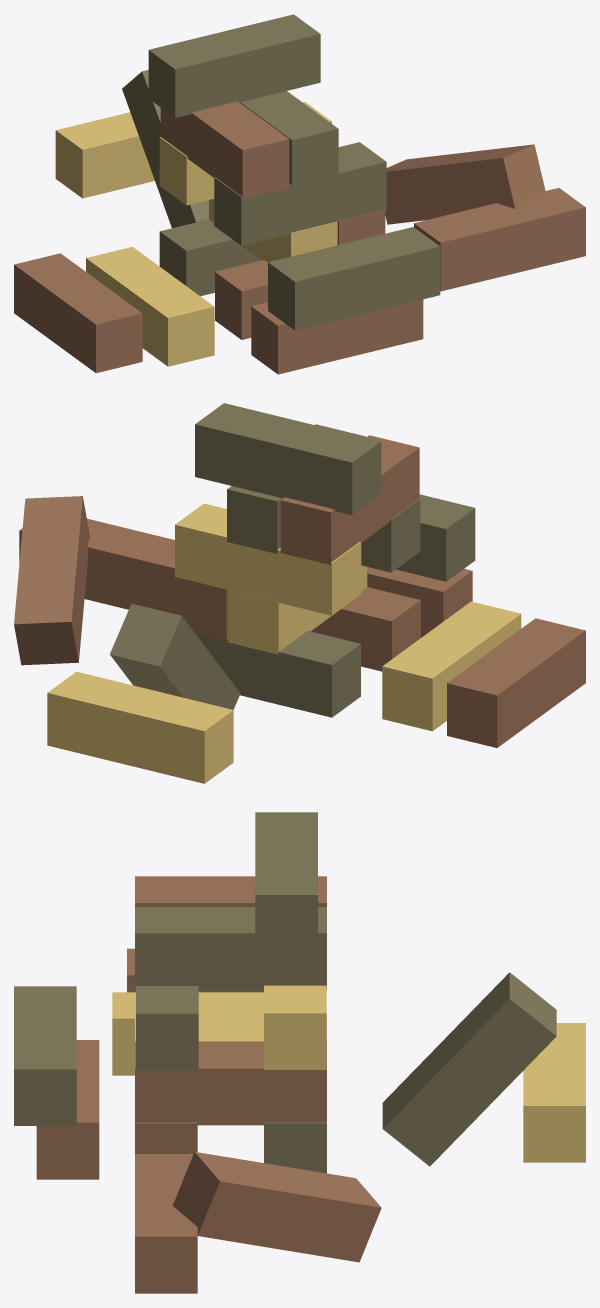
The model's file is JengaDesmontado.fbx.
3 views of the same model, one above another, from view 1: azimuth 30°, elevation 25°; view 2: azimuth 150°, elevation 25°; view 3: azimuth 270°, elevation 25° (orthographic). The views are drawn at different scales.
Parts seen in each view (by area): view 1: JengaDesMontado; view 2: JengaDesMontado; view 3: JengaDesMontado.
Boxes of the visible parts, x1,y1,x2,y2 form: JengaDesMontado: (14,14,585,374); JengaDesMontado: (14,403,585,783); JengaDesMontado: (14,812,585,1293).
Size of the model in its own units: 0.5361 by 0.2539 by 0.4604.
